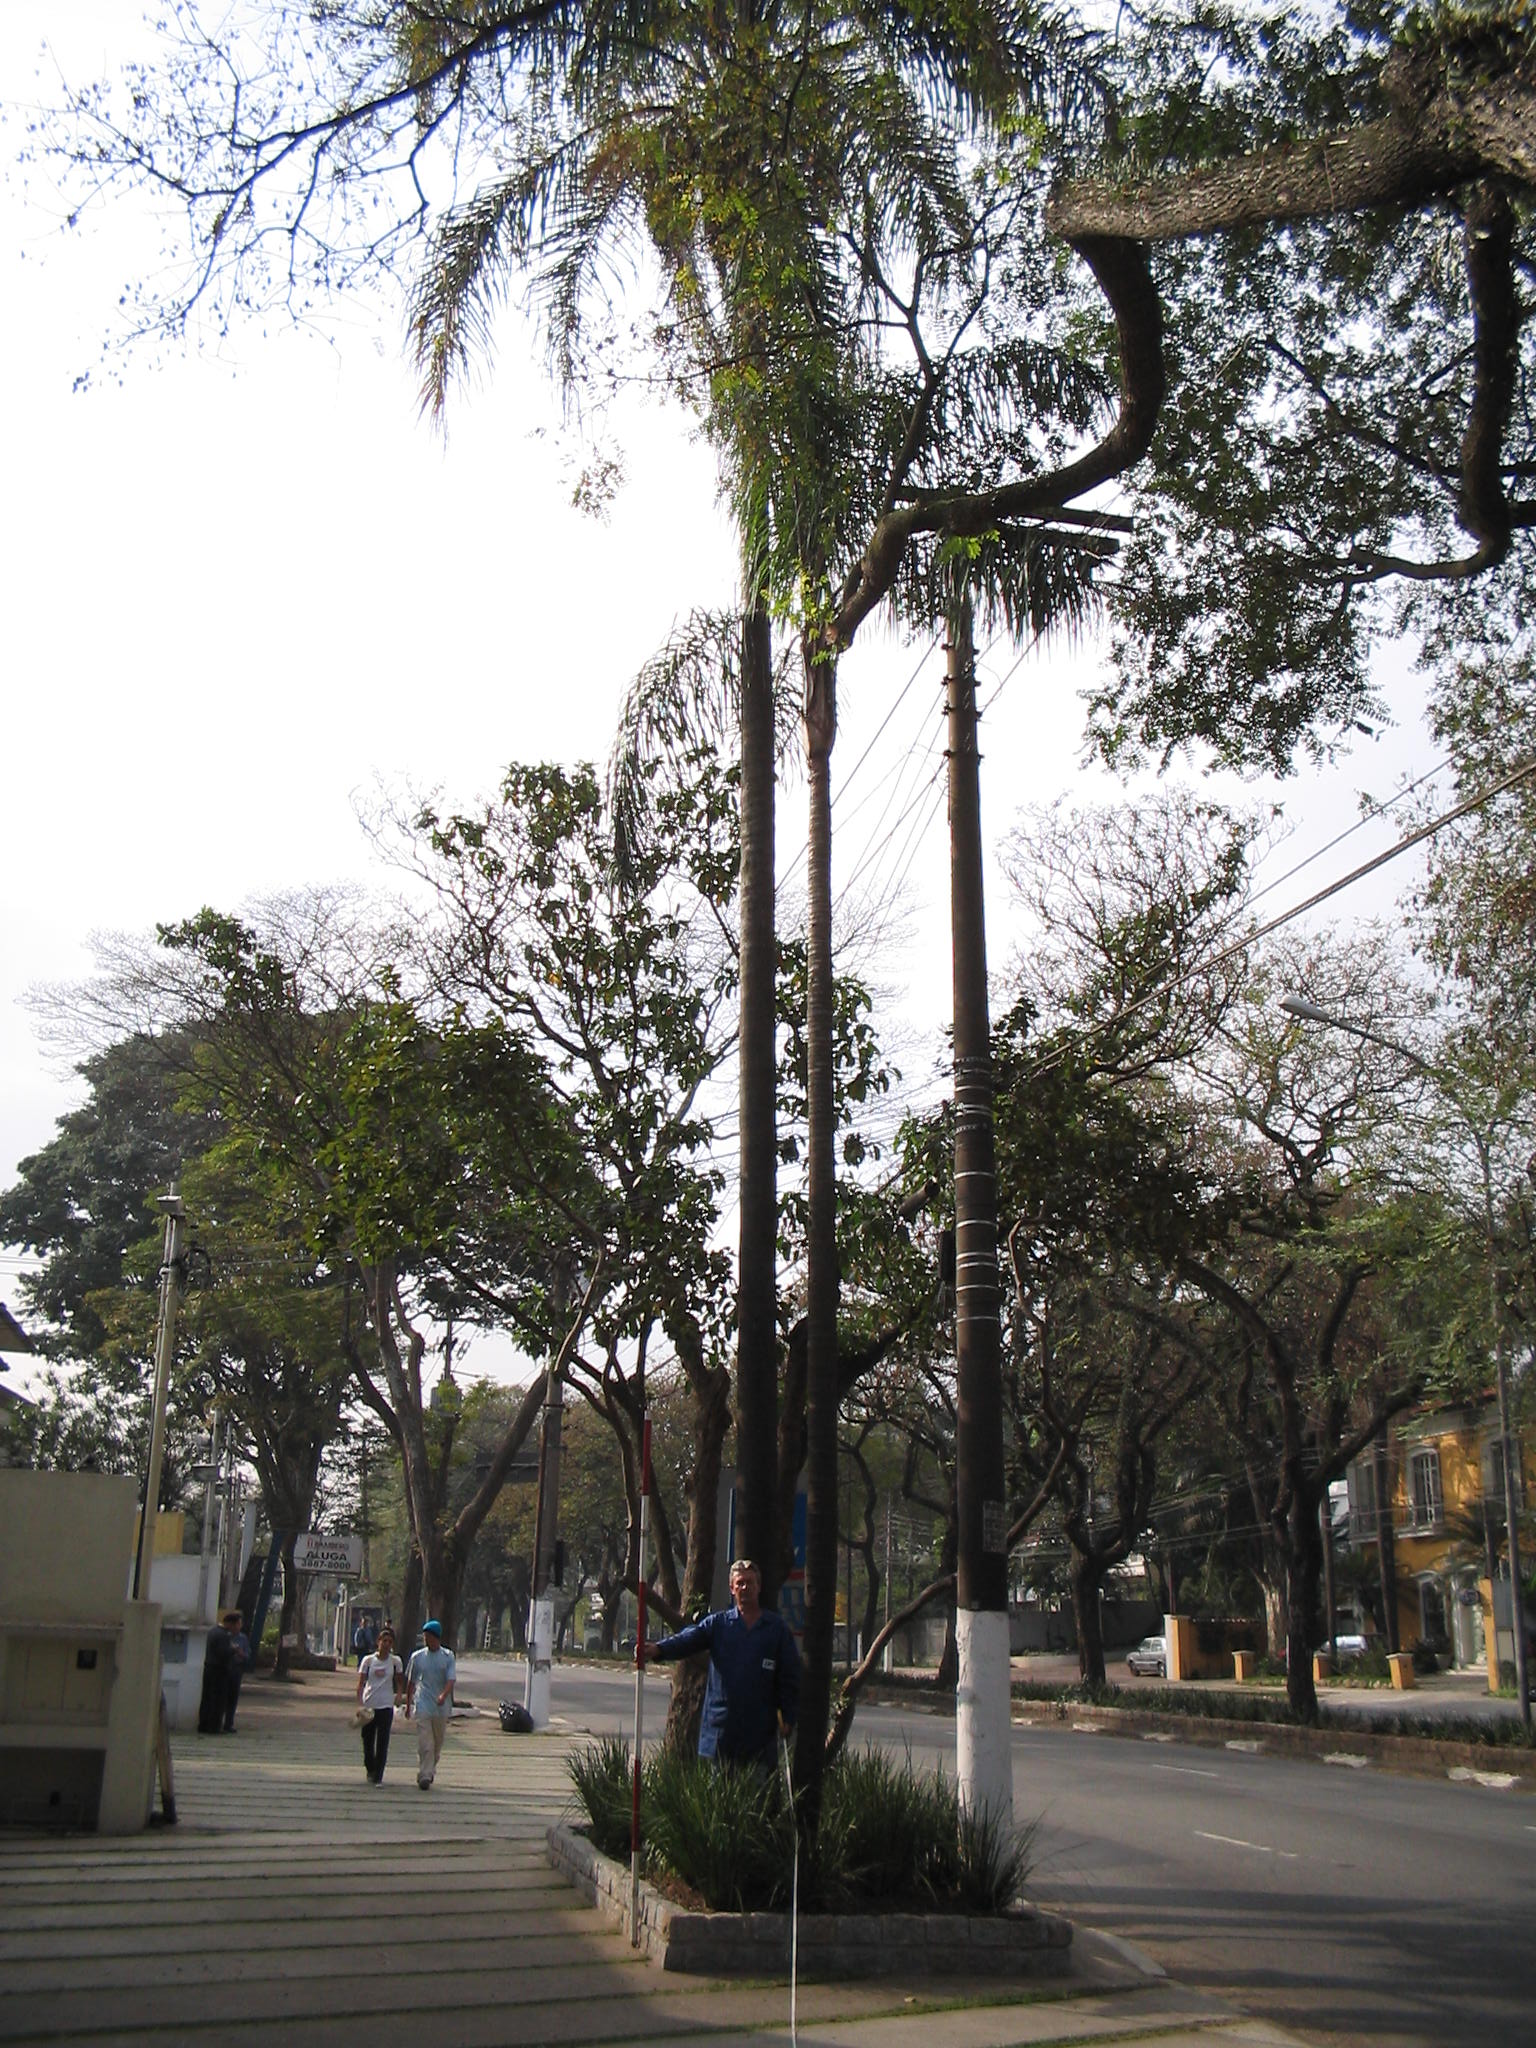stick: (603, 1417, 686, 1946)
